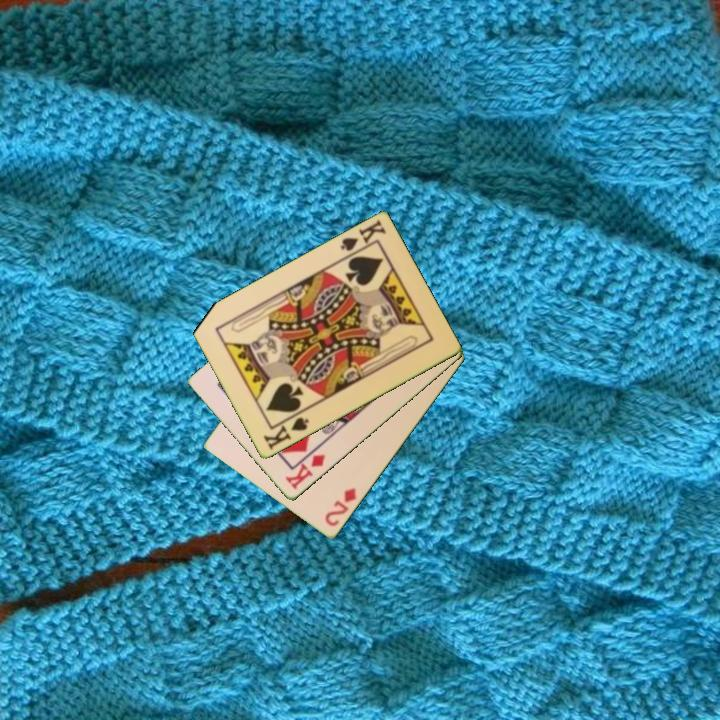2d: (321, 484, 359, 530)
Kd: (282, 451, 328, 493)
Ks: (337, 216, 389, 261), (260, 414, 312, 453)
